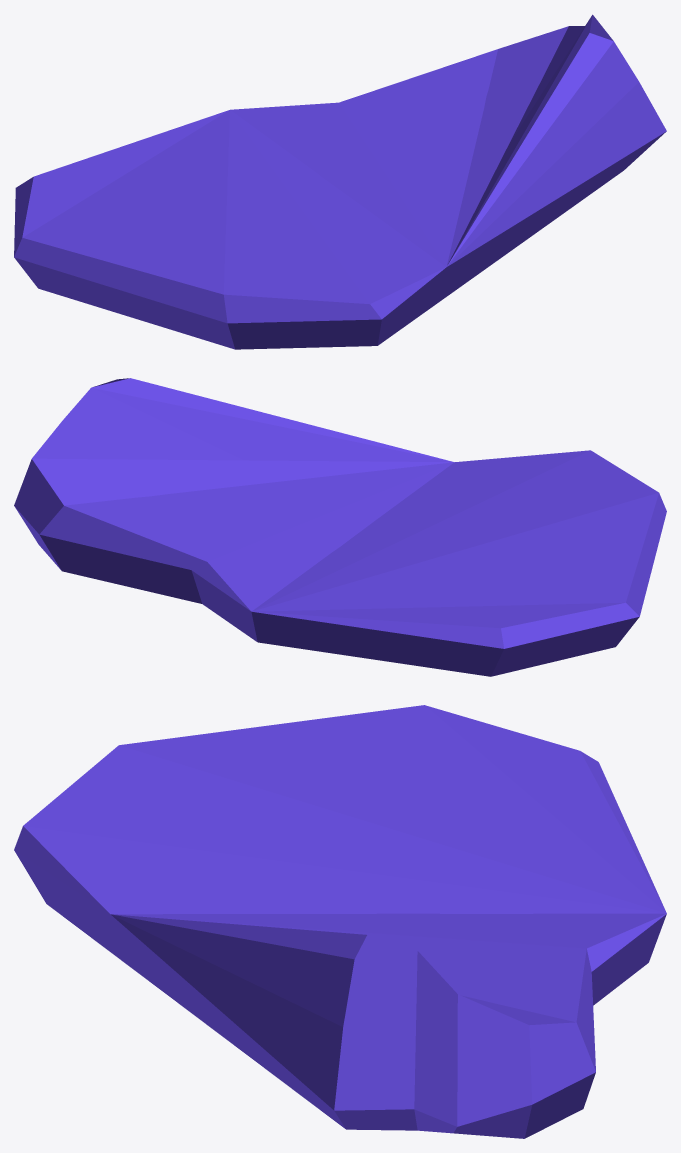
Rendered from map1.glb.
3 renders of one model, top to bottom at view 1: azimuth 30°, elevation 25°; view 2: azimuth 150°, elevation 25°; view 3: azimuth 270°, elevation 25°, orthographic. The views are drawn at different scales.
Visible parts, largest first — view 1: planeta; view 2: planeta; view 3: planeta.
Part boxes in pixels (box(x1,y1,x2,y2)): planeta: box(14, 14, 666, 349); planeta: box(14, 378, 666, 676); planeta: box(14, 705, 666, 1138).
Bounding box in the file's own units: 187 × 39.7 × 130.
